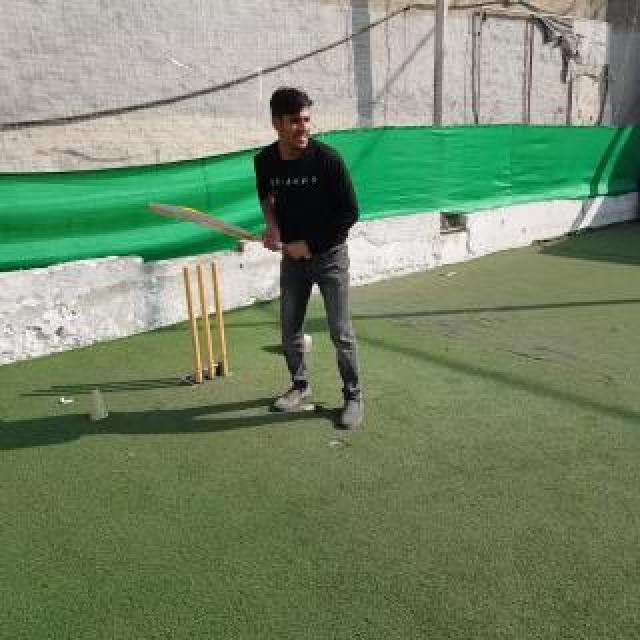bat: (148, 202, 312, 260)
